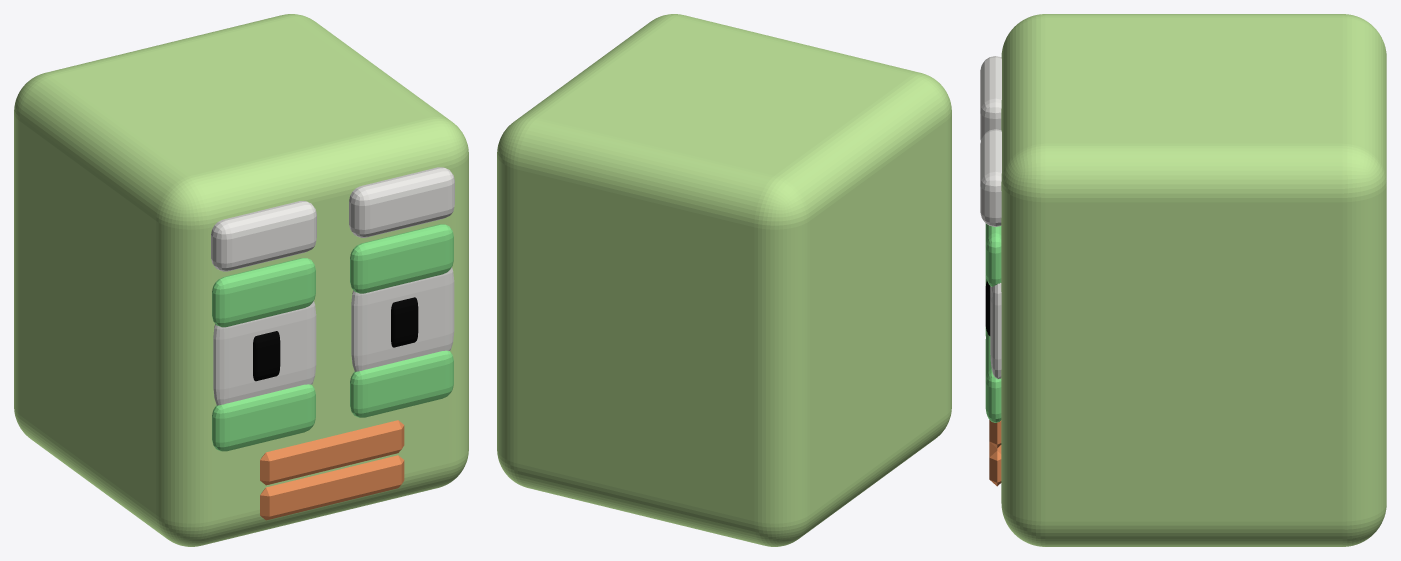
File: RoBot.glb
3 views of the same model, side by side, from view 1: azimuth 30°, elevation 25°; view 2: azimuth 150°, elevation 25°; view 3: azimuth 270°, elevation 25° (orthographic). The views are drawn at different scales.
Visible parts, largest first — view 1: RoBot_Head.004; view 2: RoBot_Head.004; view 3: RoBot_Head.004.
Boxes of the visible parts, left/top/right/bottom form: RoBot_Head.004: left=14, top=14, right=468, bottom=546; RoBot_Head.004: left=497, top=14, right=951, bottom=546; RoBot_Head.004: left=980, top=14, right=1386, bottom=546.
Bounding box in the file's own units: 0.7 × 0.8 × 0.7386.
